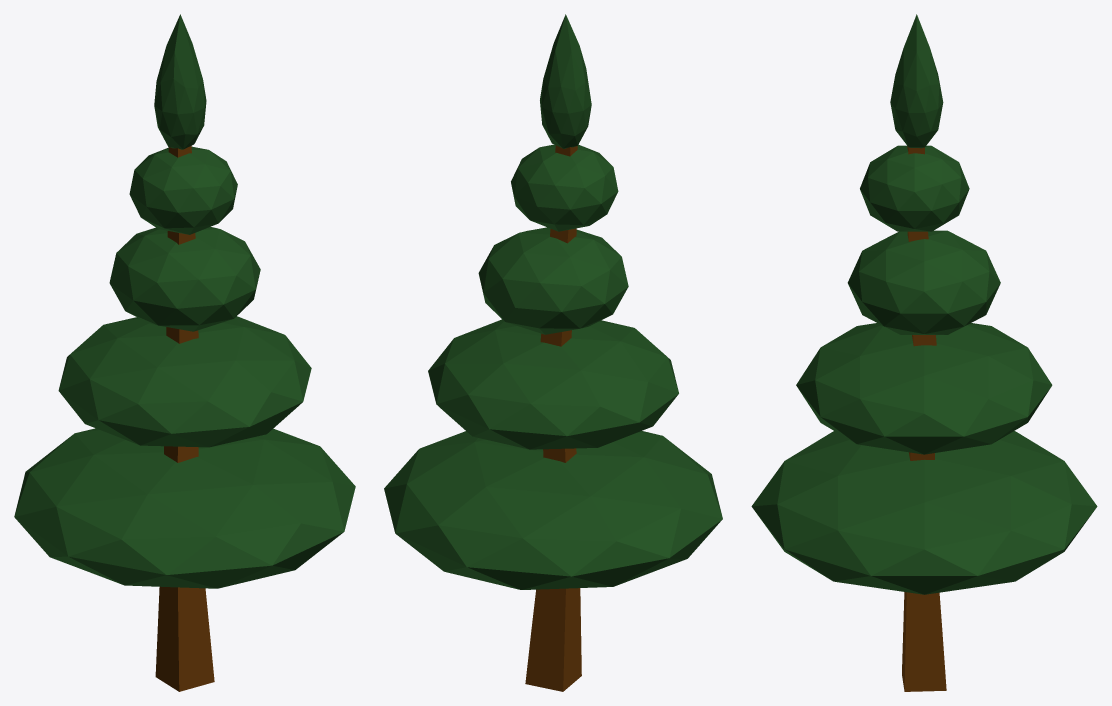
The model's file is TreeC4.fbx.
3 views of the same model, side by side, from view 1: azimuth 30°, elevation 25°; view 2: azimuth 150°, elevation 25°; view 3: azimuth 270°, elevation 25° (orthographic).
Parts seen in each view (by area): view 1: TreeC4; view 2: TreeC4; view 3: TreeC4.
Boxes of the visible parts, x1=… form: TreeC4: x1=14, y1=14, x2=355, y2=691; TreeC4: x1=384, y1=14, x2=722, y2=691; TreeC4: x1=751, y1=14, x2=1097, y2=691.
Bounding box in the file's own units: 1102 × 1048 × 2335.
